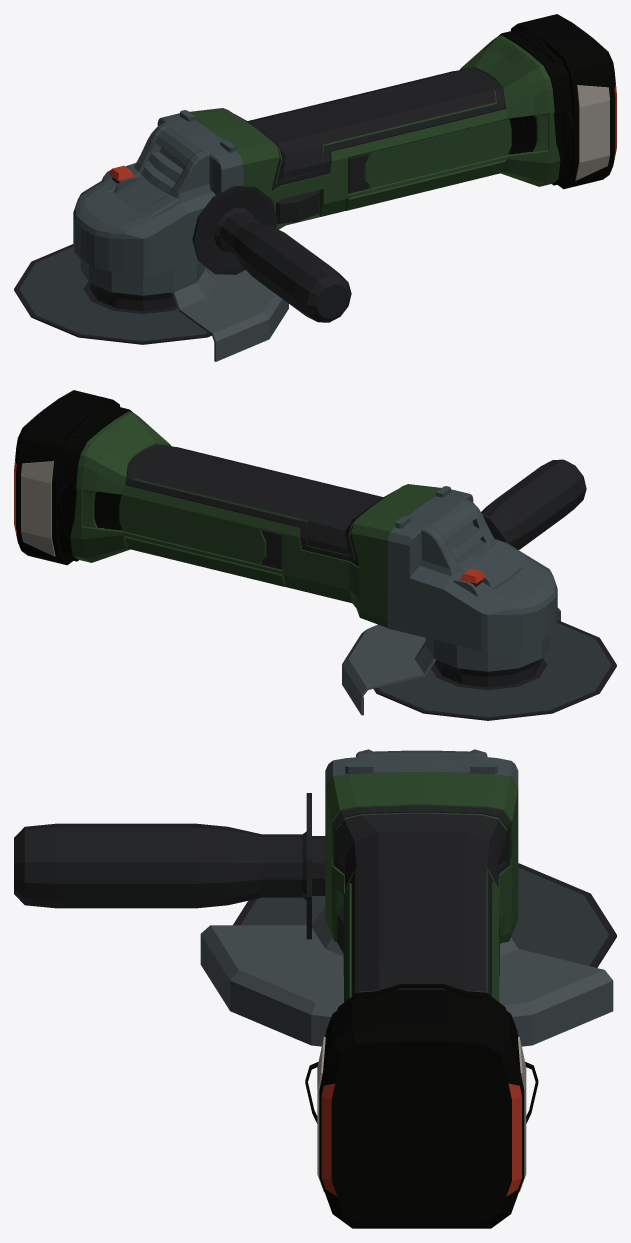
Rendered from SM_Battery_Grinder.glb.
3 renders of one model, top to bottom at view 1: azimuth 30°, elevation 25°; view 2: azimuth 150°, elevation 25°; view 3: azimuth 270°, elevation 25°, orthographic. The views are drawn at different scales.
Visible parts, largest first — view 1: SM_Battery_Grinder; view 2: SM_Battery_Grinder; view 3: SM_Battery_Grinder.
Part boxes in pixels (x1=…): SM_Battery_Grinder: x1=14, y1=14, x2=616, y2=361; SM_Battery_Grinder: x1=14, y1=390, x2=616, y2=720; SM_Battery_Grinder: x1=14, y1=749, x2=616, y2=1228.
Size of the model in its own units: 0.5014 by 0.1526 by 0.3111.
1 material, 1 textured.
